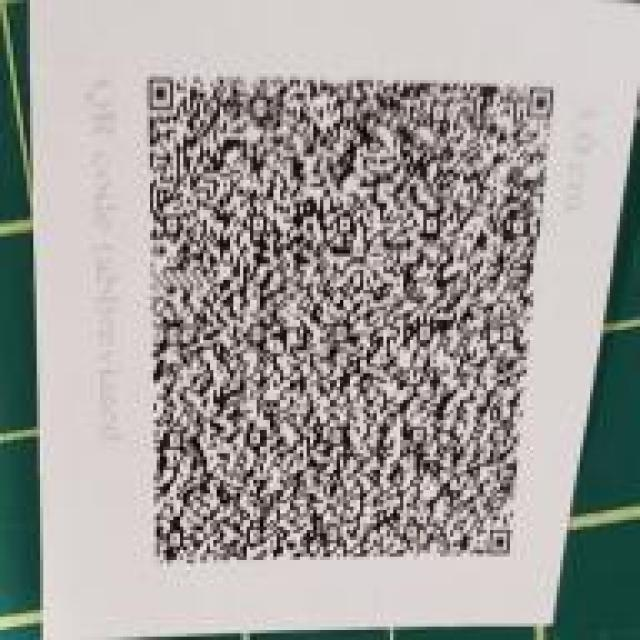QR_CODE: (128, 61, 567, 576)
